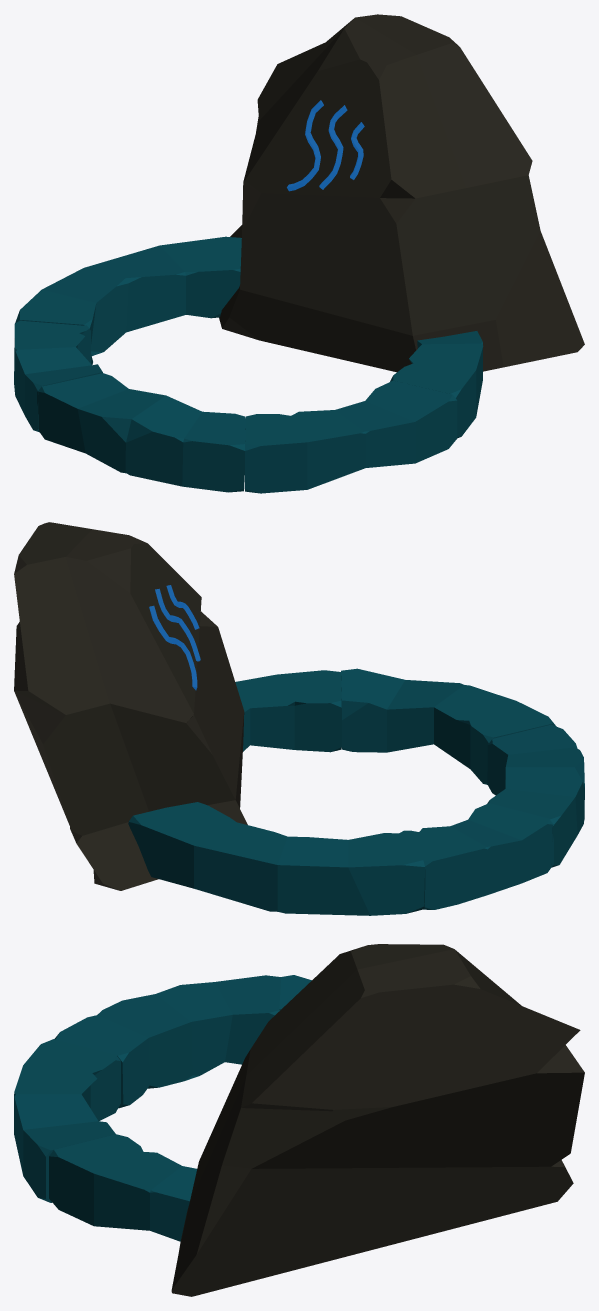
Rendered from pond.glb.
3 renders of one model, top to bottom at view 1: azimuth 30°, elevation 25°; view 2: azimuth 150°, elevation 25°; view 3: azimuth 270°, elevation 25°, orthographic. The views are drawn at different scales.
Visible parts, largest first — view 1: Pond, Pond stone.001, Pond stone, Pond stone.005, Pond stone.003, Pond stone.002, Glyph; view 2: Pond, Pond stone.005, Pond stone, Pond stone.003, Pond stone.001, Pond stone.002, Glyph; view 3: Pond, Pond stone.001, Pond stone.002, Pond stone, Pond stone.003.
Boxes of the visible parts, box(x1,y1,x2,y2) form: Pond: box(219, 14, 584, 372); Pond stone.001: box(37, 373, 245, 492); Pond stone: box(245, 380, 457, 493); Pond stone.005: box(15, 236, 241, 364); Pond stone.003: box(14, 320, 102, 432); Pond stone.002: box(390, 331, 483, 438); Glyph: box(287, 100, 364, 191); Pond: box(14, 522, 247, 890); Pond stone.005: box(128, 802, 425, 915); Pond stone: box(341, 668, 556, 784); Pond stone.003: box(399, 803, 553, 909); Pond stone.001: box(487, 724, 584, 867); Pond stone.002: box(235, 670, 341, 752); Glyph: box(149, 585, 200, 690); Pond: box(171, 944, 584, 1296); Pond stone.001: box(54, 975, 280, 1108); Pond stone.002: box(49, 1134, 196, 1241); Pond stone: box(14, 1039, 120, 1202); Pond stone.003: box(279, 975, 311, 1010).
Size of the model in its own units: 3.39 by 1.77 by 3.04.
